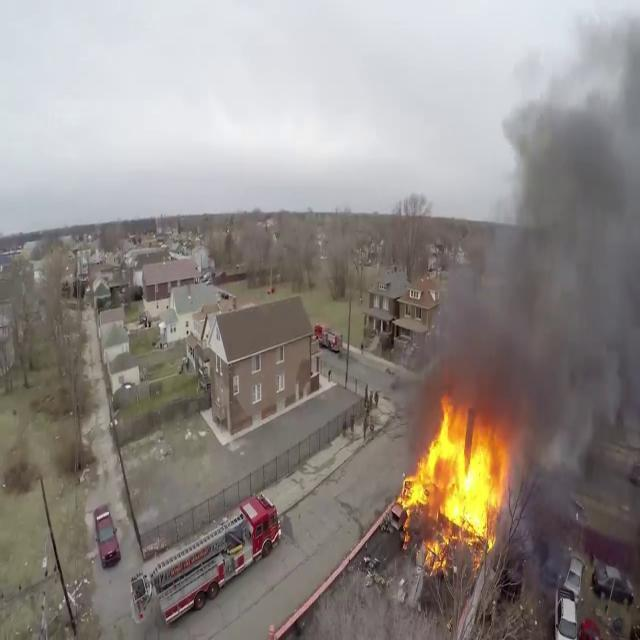Fire: (390, 397, 514, 567)
Smoke: (421, 2, 640, 447)
